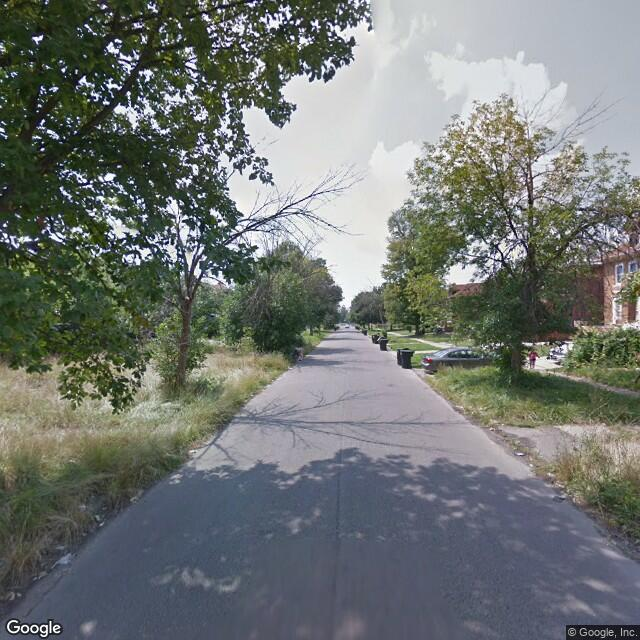litter: (52, 550, 78, 568), (556, 490, 575, 501), (92, 516, 108, 527), (7, 591, 23, 601), (515, 449, 527, 458), (545, 473, 559, 478), (186, 449, 201, 453), (488, 425, 495, 432)
